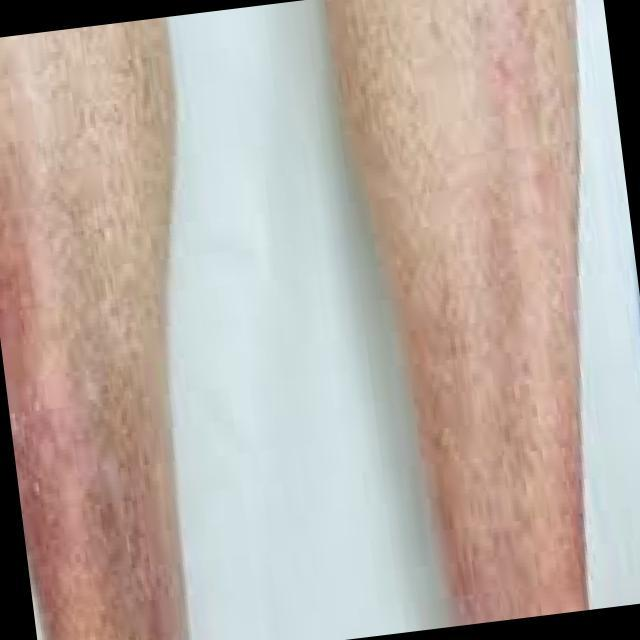Eczema: (2, 213, 170, 640), (389, 204, 559, 606)
